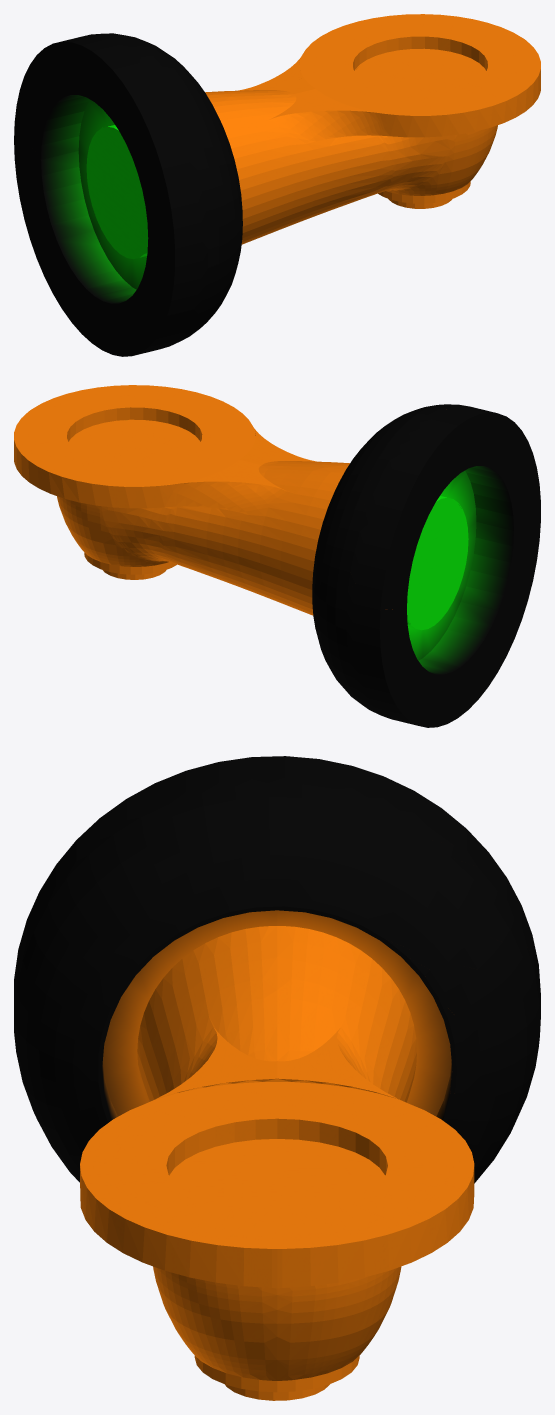
3 views of the same model, one above another, from view 1: azimuth 30°, elevation 25°; view 2: azimuth 150°, elevation 25°; view 3: azimuth 270°, elevation 25° (orthographic). The views are drawn at different scales.
Parts seen in each view (by area): view 1: node; view 2: node; view 3: node.
Boxes of the visible parts, x1,y1,x2,y2 form: node: [14, 14, 540, 356]; node: [14, 385, 540, 727]; node: [14, 756, 540, 1400].
Bounding box in the file's own units: 14.43 × 9.37 × 9.36.
Materials: 1 (1 with a texture image).
